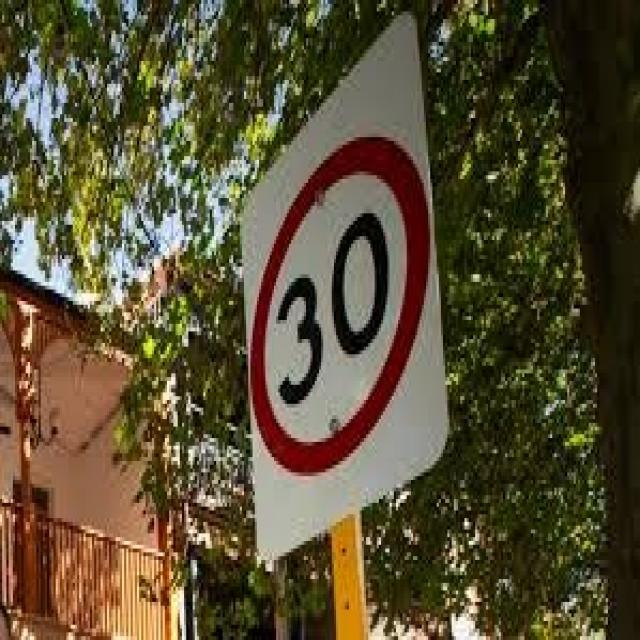speed_limit_30: (239, 123, 439, 486)
